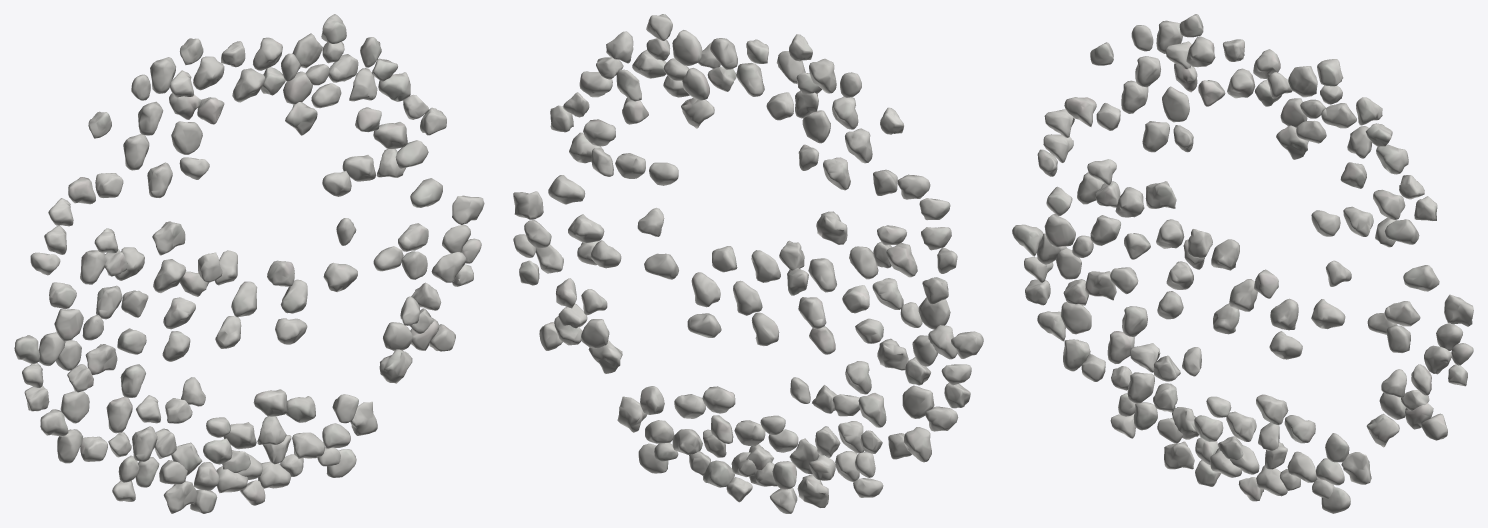
The model's file is CactusStones.obj.
3 renders of one model, left to right at view 1: azimuth 30°, elevation 25°; view 2: azimuth 150°, elevation 25°; view 3: azimuth 330°, elevation 25°, orthographic. The views are drawn at different scales.
Visible parts, largest first — view 1: CactusStones; view 2: CactusStones; view 3: CactusStones.
Part boxes in pixels (bbox=[...]): CactusStones: bbox=[14, 14, 484, 513]; CactusStones: bbox=[513, 14, 983, 513]; CactusStones: bbox=[1012, 14, 1473, 513].
Bounding box in the file's own units: 0.2226 × 0.2184 × 0.0184.
1 material, 1 textured.
